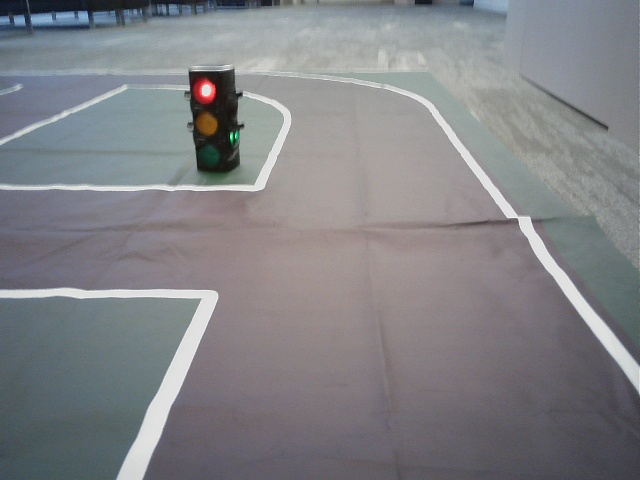red: (193, 74, 221, 169)
